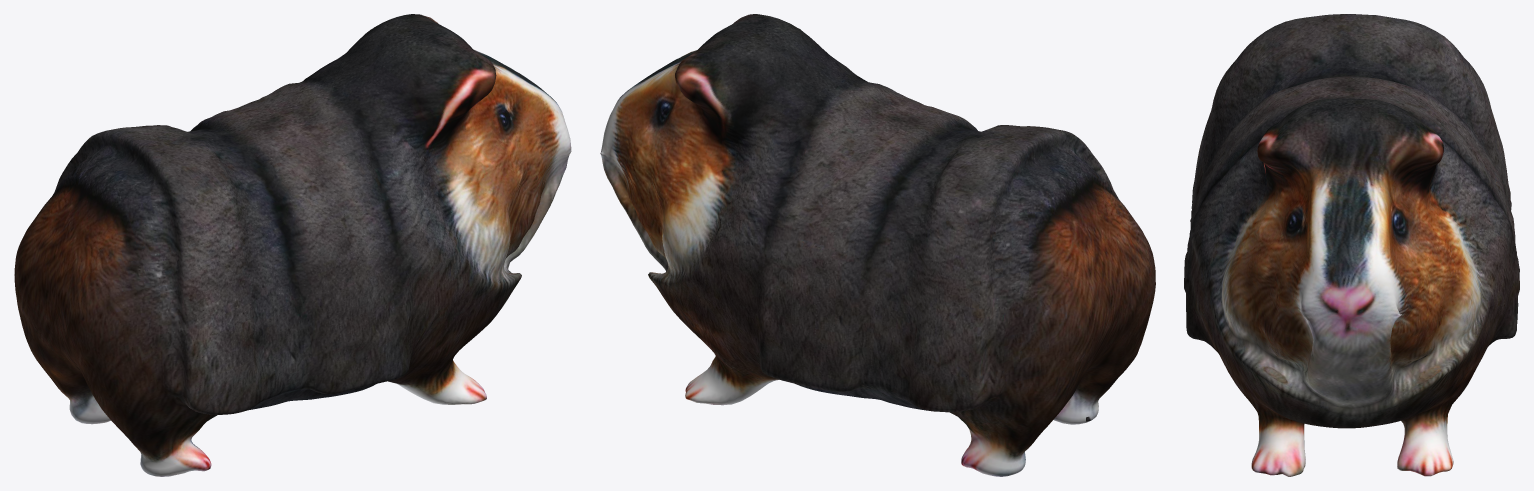
3 renders of one model, left to right at view 1: azimuth 30°, elevation 25°; view 2: azimuth 150°, elevation 25°; view 3: azimuth 270°, elevation 25°, orthographic. The views are drawn at different scales.
Visible parts, largest first — view 1: mesh; view 2: mesh; view 3: mesh.
Part boxes in pixels (x1,y1,x2,y2): mesh: [14, 14, 571, 476]; mesh: [600, 14, 1155, 476]; mesh: [1184, 14, 1519, 476].
Bounding box in the file's own units: 0.9991 × 0.6502 × 0.55.
Materials: 1 (1 with a texture image).
